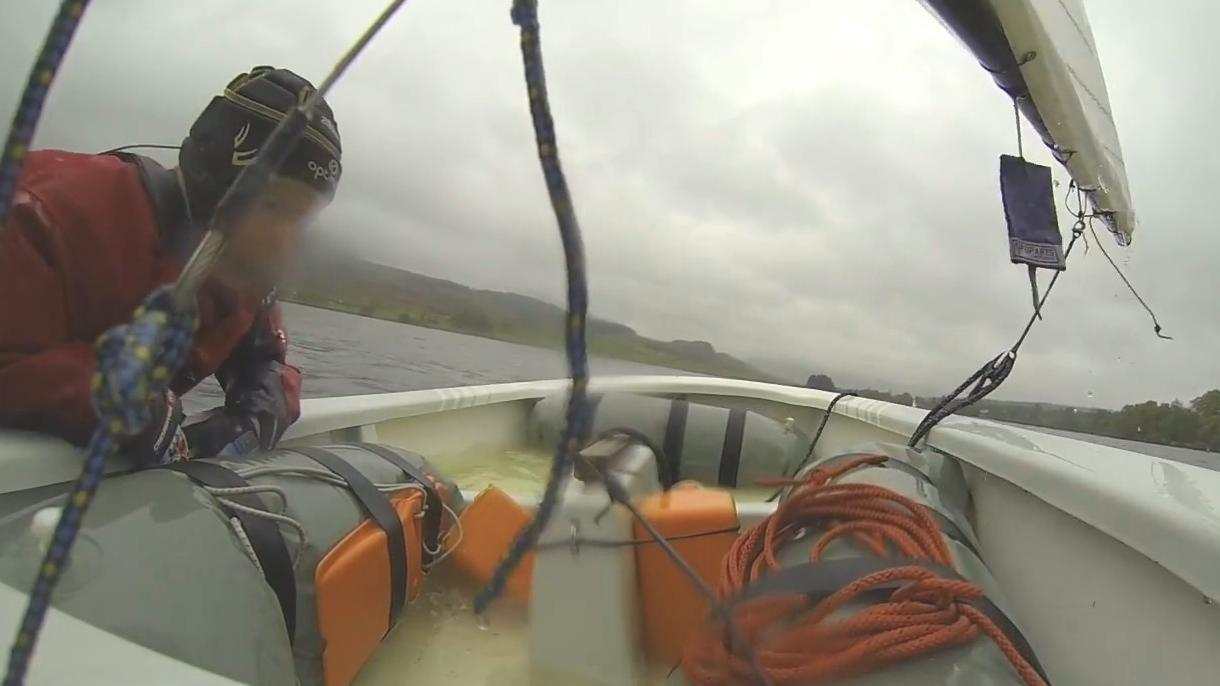boat: (0, 378, 1220, 686), (923, 0, 1134, 242)
land: (281, 258, 569, 350), (584, 318, 789, 384), (961, 401, 1220, 453)
person: (0, 67, 343, 446)
sea: (279, 304, 573, 398), (950, 418, 1220, 474), (589, 356, 691, 377)
sky: (27, 0, 1220, 410), (0, 0, 88, 154)
